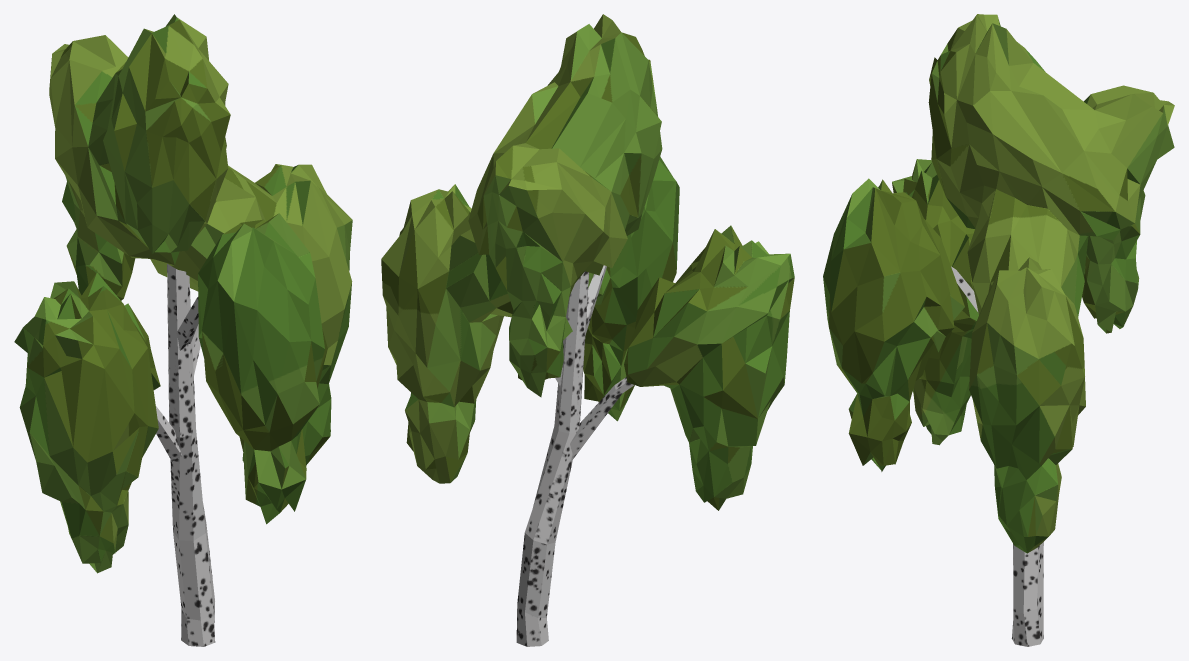
The model's file is _10_tree_Cylinder.002.obj.
The picture shows the model from 3 angles, left to right: view 1: azimuth 30°, elevation 25°; view 2: azimuth 150°, elevation 25°; view 3: azimuth 270°, elevation 25°; orthographic projection. The views are drawn at different scales.
Parts seen in each view (by area): view 1: _10_tree_Cylinder.002; view 2: _10_tree_Cylinder.002; view 3: _10_tree_Cylinder.002.
Part boxes in pixels (left/top/right/bottom): _10_tree_Cylinder.002: left=14, top=14, right=352, bottom=646; _10_tree_Cylinder.002: left=381, top=14, right=794, bottom=646; _10_tree_Cylinder.002: left=823, top=14, right=1174, bottom=646.
Size of the model in its own units: 1.16 by 1.97 by 1.04.
1 material, 1 textured.
